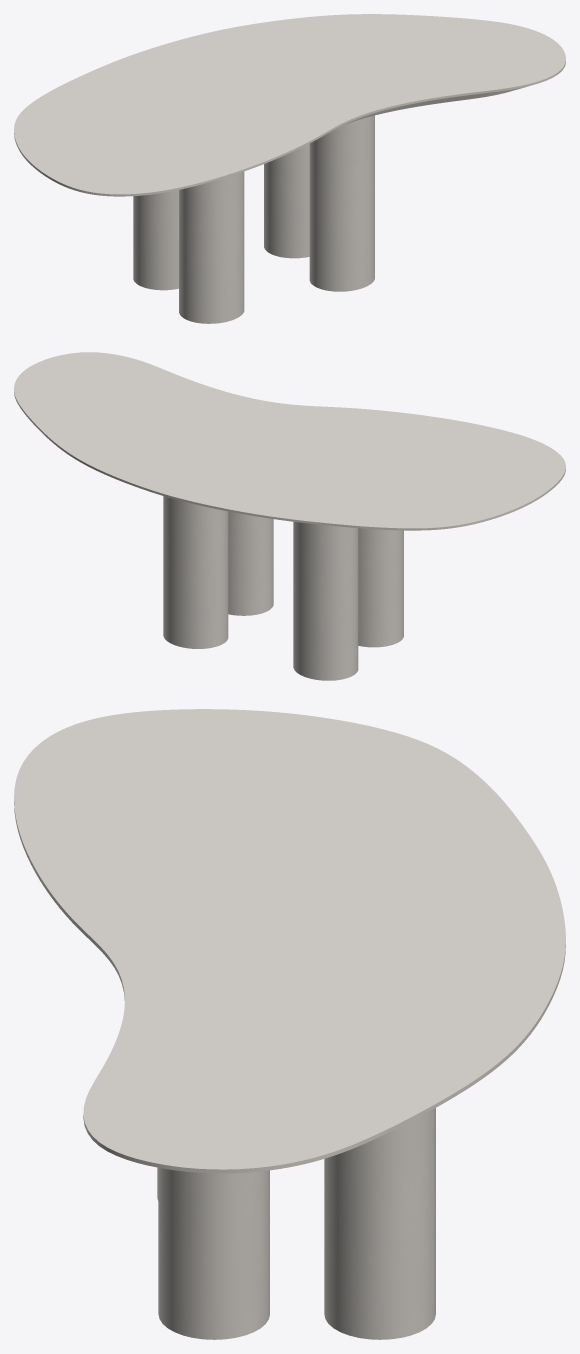
Rendered from pearlwhite_leaf1_facet_grove.glb.
3 renders of one model, top to bottom at view 1: azimuth 30°, elevation 25°; view 2: azimuth 150°, elevation 25°; view 3: azimuth 270°, elevation 25°, orthographic. The views are drawn at different scales.
Parts seen in each view (by area): view 1: facet_leaf1, grove; view 2: facet_leaf1, grove; view 3: facet_leaf1, grove.
Boxes of the visible parts, bbox=[...] form: facet_leaf1: bbox=[14, 14, 565, 196]; grove: bbox=[133, 115, 374, 323]; facet_leaf1: bbox=[14, 352, 565, 530]; grove: bbox=[163, 496, 403, 680]; facet_leaf1: bbox=[14, 709, 565, 1173]; grove: bbox=[157, 1108, 435, 1339].
Bounding box in the file's own units: 7.5 × 2.54 × 3.8.
Materials: 1 (1 with a texture image).
